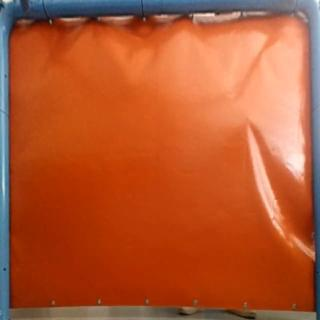Hit-hRxx: (241, 112, 257, 126)
